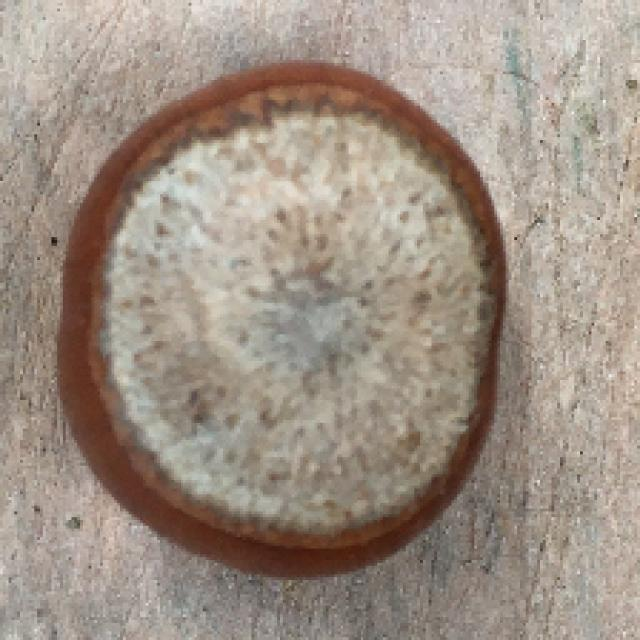qualityHazelnut: (59, 58, 512, 582)
